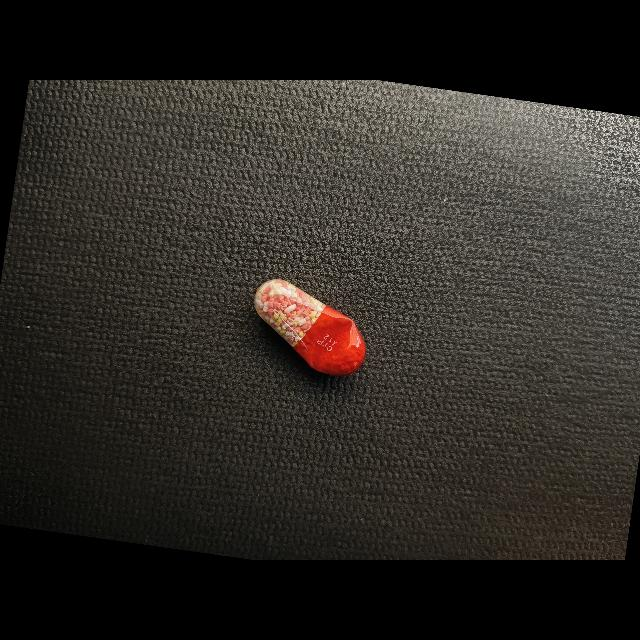Defective Capsule: (254, 279, 366, 376)
